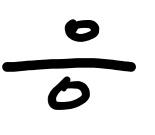div: (1, 19, 137, 110)
